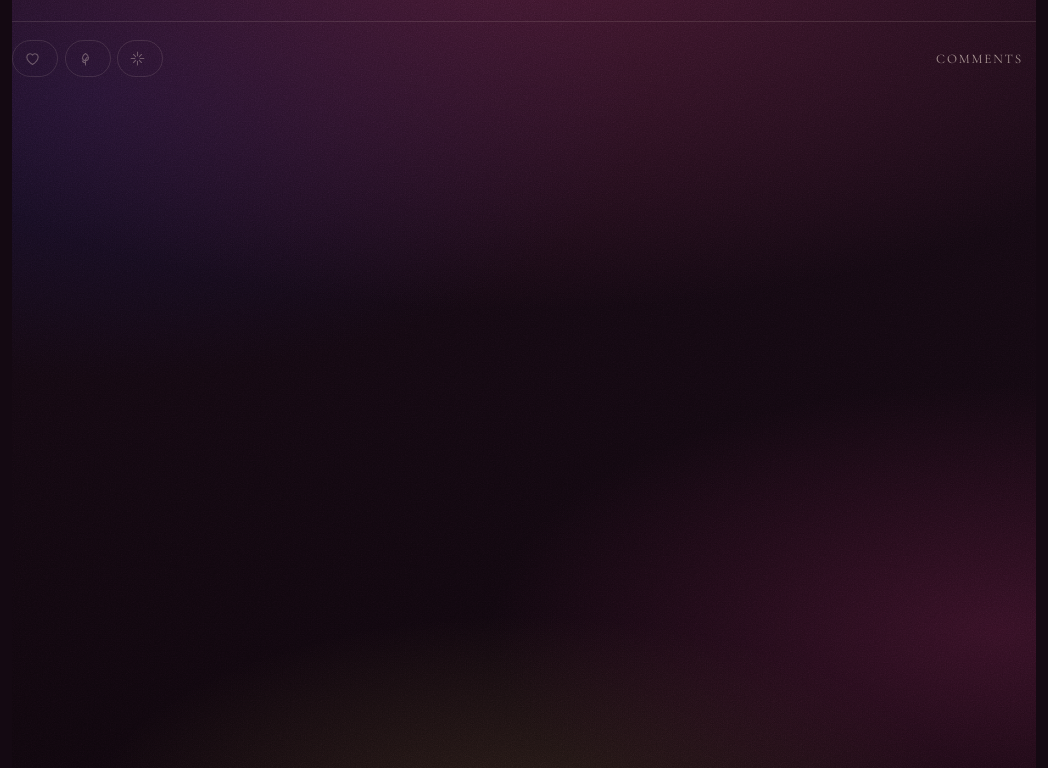
Test case: comments › pre-fills the name with whoever is signed in
The width and height of the screenshot is (1048, 768).
Click the button "Comments".
click(980, 59)  # box x1=923 y1=39 x2=1036 y2=78
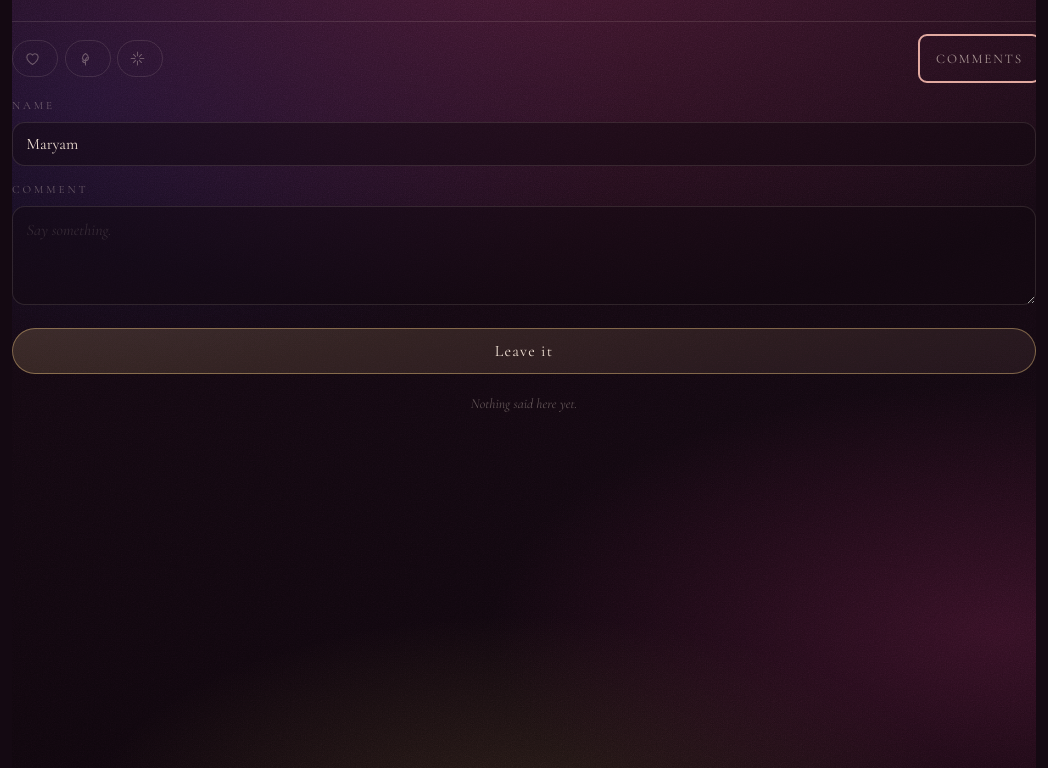
Check: the field labelled "Name" holds "Maryam", box x1=12 y1=122 x2=1036 y2=166
